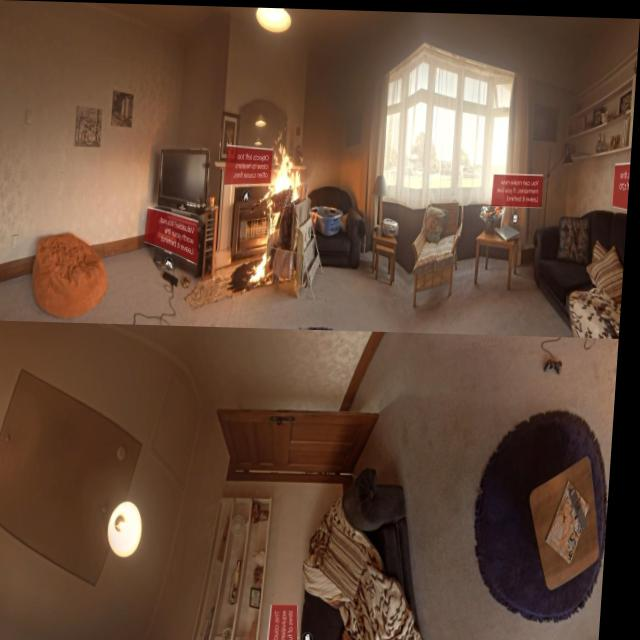fire: (252, 128, 310, 289)
